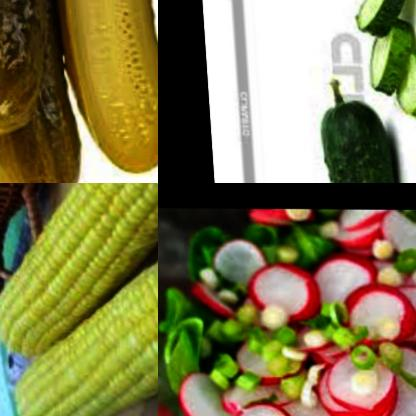corn: (0, 183, 158, 360), (0, 246, 158, 416)
cucumber: (50, 0, 158, 177), (0, 6, 86, 183), (306, 79, 408, 183), (0, 0, 65, 141), (355, 20, 416, 115), (348, 0, 411, 37)
rediska: (246, 244, 415, 348), (322, 334, 416, 416), (336, 207, 416, 258), (169, 366, 235, 416), (205, 237, 267, 288), (227, 387, 317, 416), (182, 274, 235, 320), (237, 208, 316, 232), (397, 268, 416, 327)
